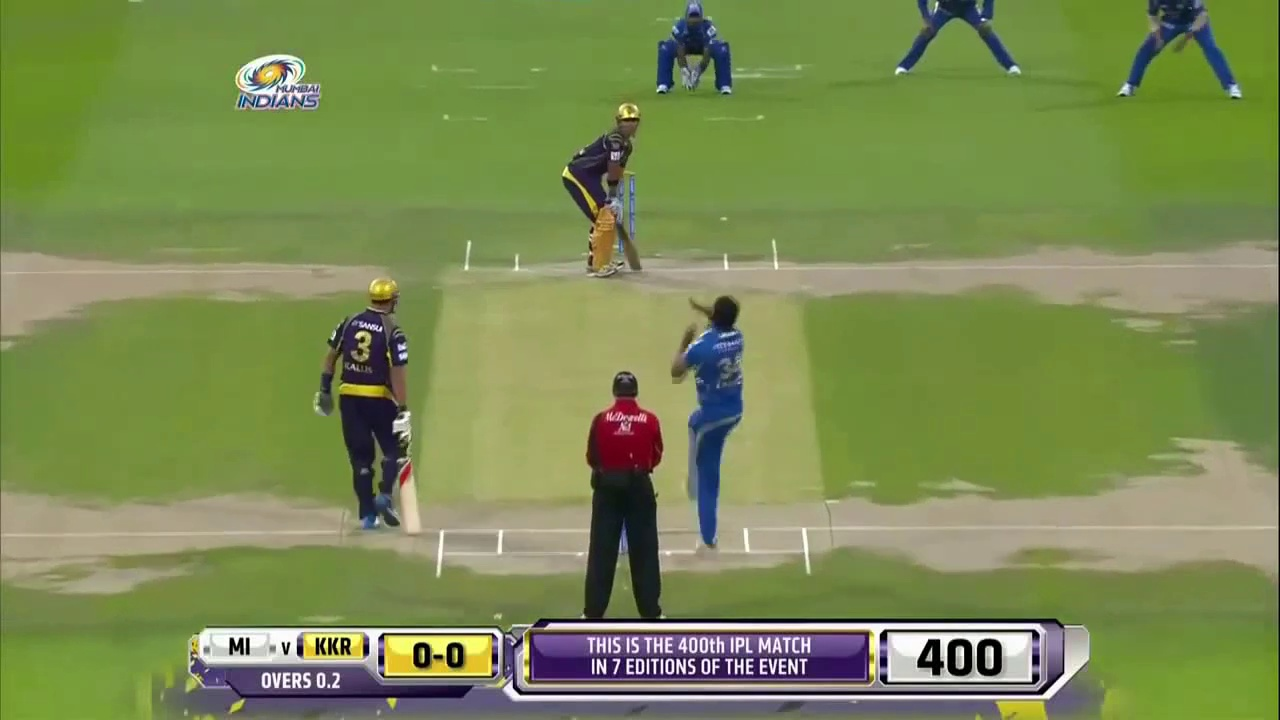bat: (395, 457, 423, 535), (618, 226, 642, 272)
